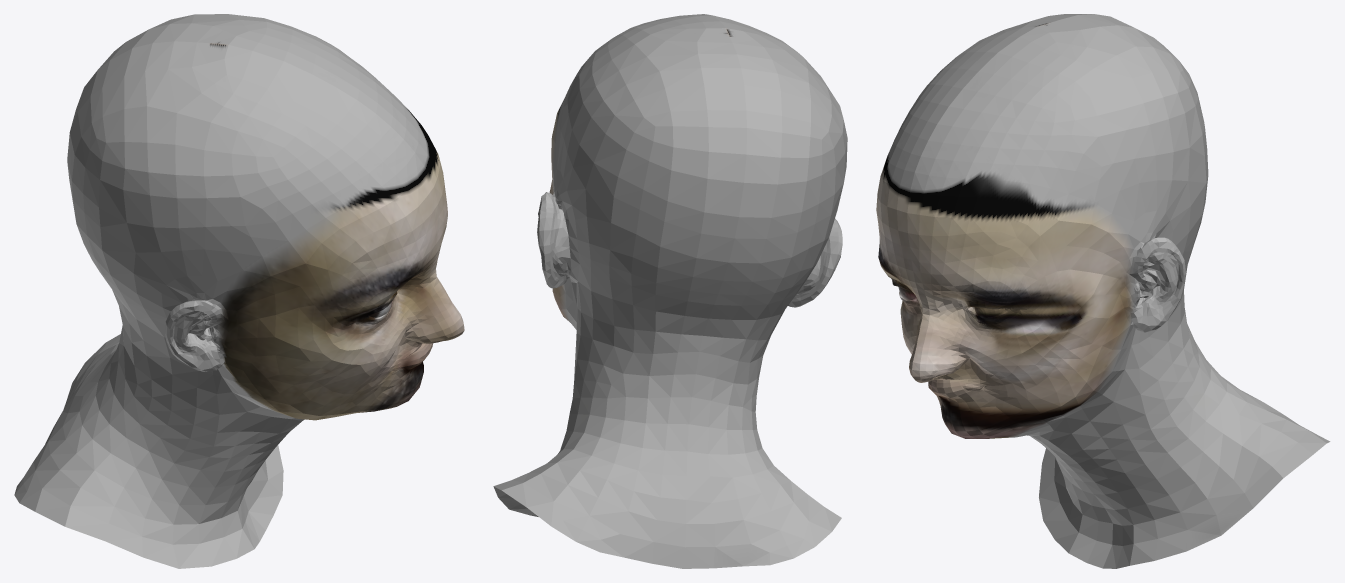
Rendered from ezgif-frame-051.obj.
The picture shows the model from 3 angles, left to right: view 1: azimuth 30°, elevation 25°; view 2: azimuth 150°, elevation 25°; view 3: azimuth 270°, elevation 25°; orthographic projection. The views are drawn at different scales.
Size of the model in its own units: 0.2108 by 0.3157 by 0.2548.
Materials: 1 (1 with a texture image).
